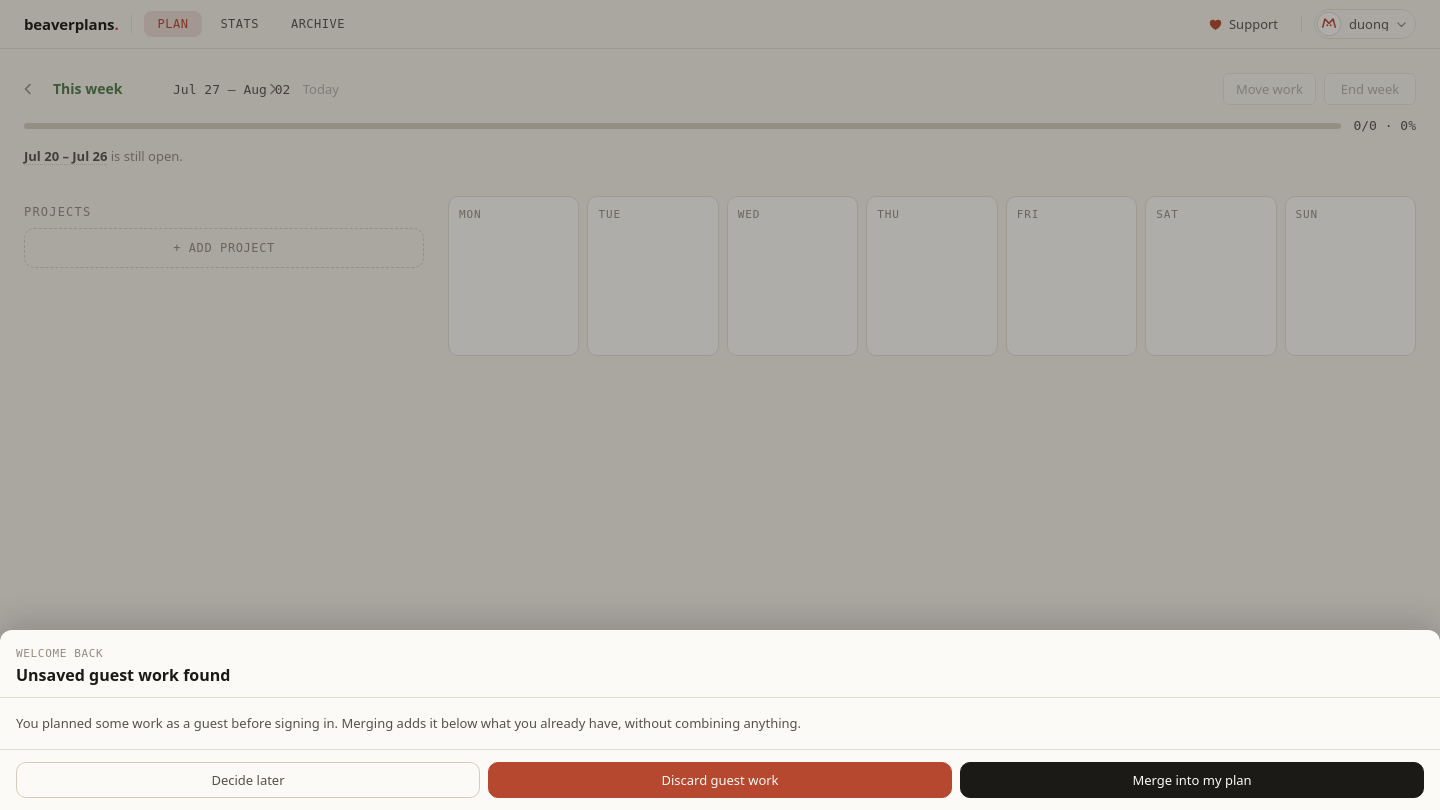
Test: App under the weeks model › signed in › discarding the guest work drops it and leaves the account untouched
Check: the button with aria-label "Account: duong" is shown, box left=1314, top=9, right=1416, bottom=39
Check: the heading "Unsaved guest work found" is shown, box left=16, top=664, right=230, bottom=686
Step 1. Click the button "Discard guest work" → (720, 780), box left=488, top=762, right=952, bottom=798
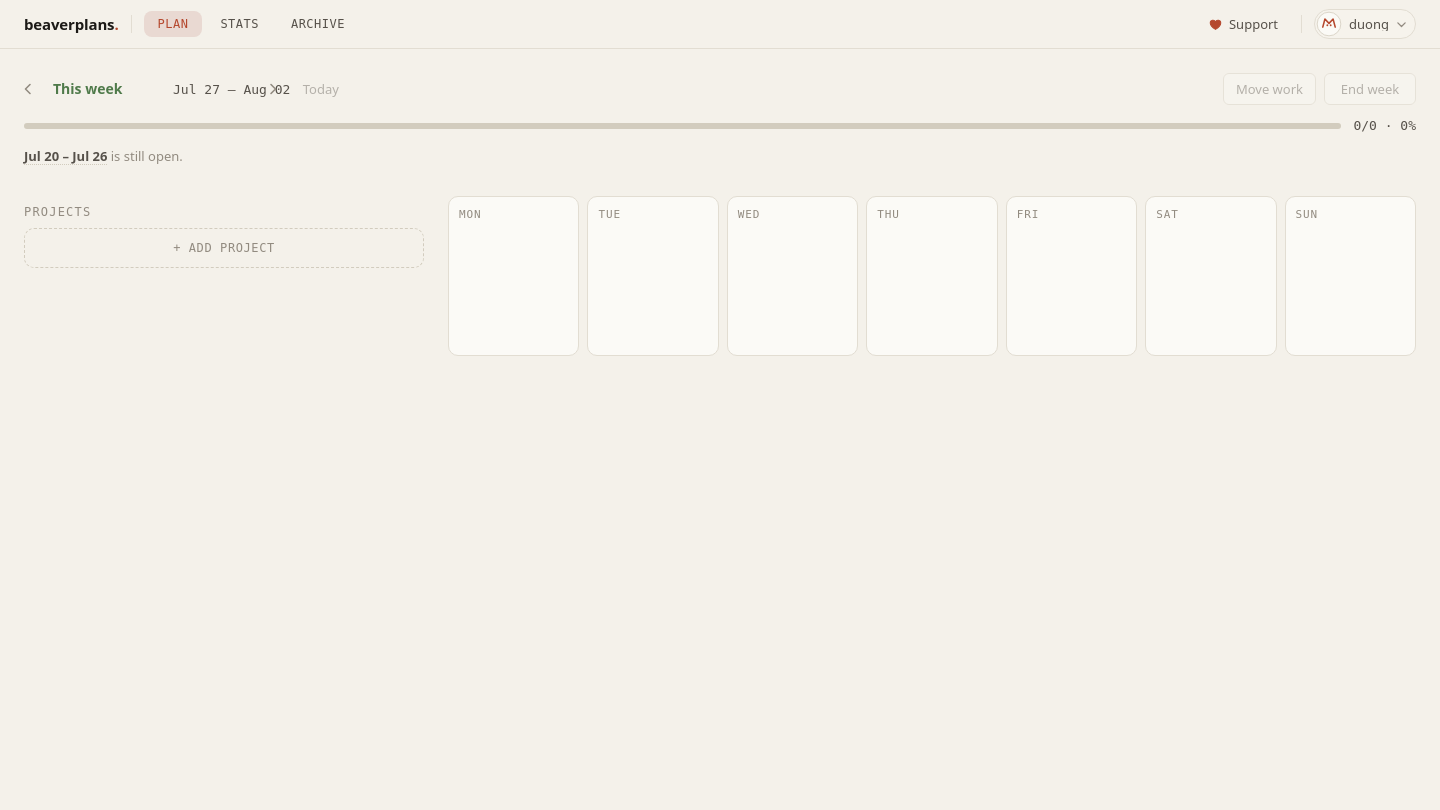
Check: the heading "Unsaved guest work found" is gone
